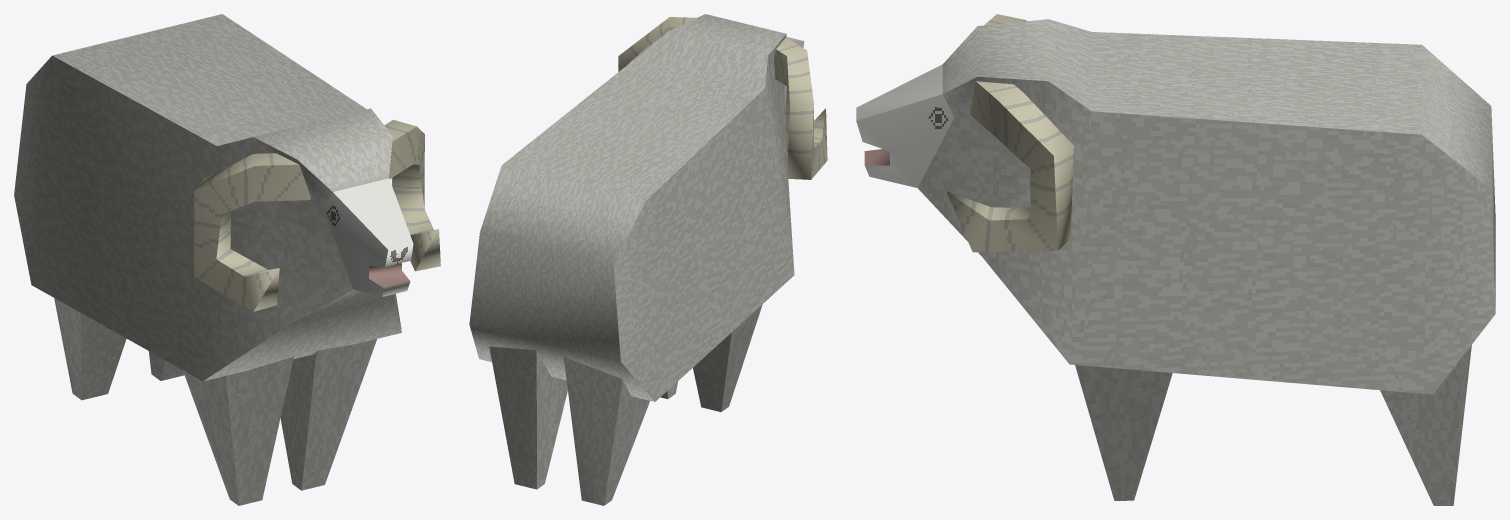
The model's file is 01eb_White_Sheep.glb.
The picture shows the model from 3 angles, left to right: view 1: azimuth 30°, elevation 25°; view 2: azimuth 150°, elevation 25°; view 3: azimuth 270°, elevation 25°; orthographic projection. The views are drawn at different scales.
Parts seen in each view (by area): view 1: part_0; view 2: part_0; view 3: part_0.
Boxes of the visible parts, x1,y1,x2,y2 form: part_0: [14, 14, 440, 505]; part_0: [469, 14, 827, 505]; part_0: [856, 14, 1495, 505].
Bounding box in the file's own units: 0.458 × 0.7503 × 1.02.
Materials: 1 (1 with a texture image).
